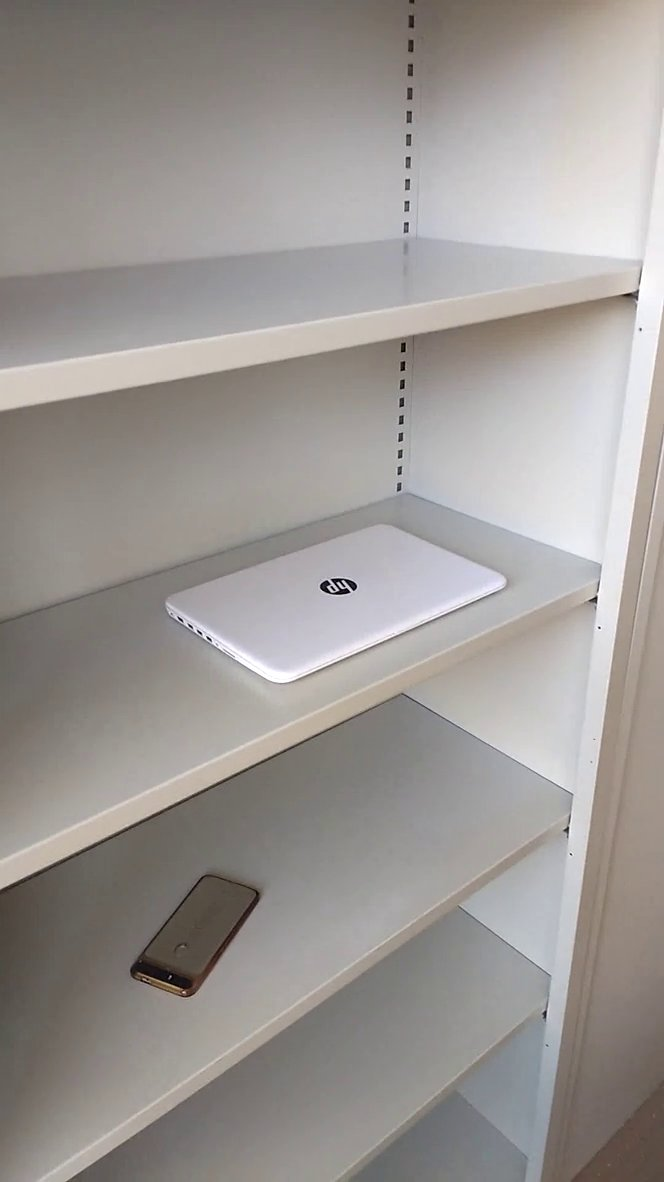laptop: (155, 518, 523, 692)
phone: (123, 864, 274, 1001)
